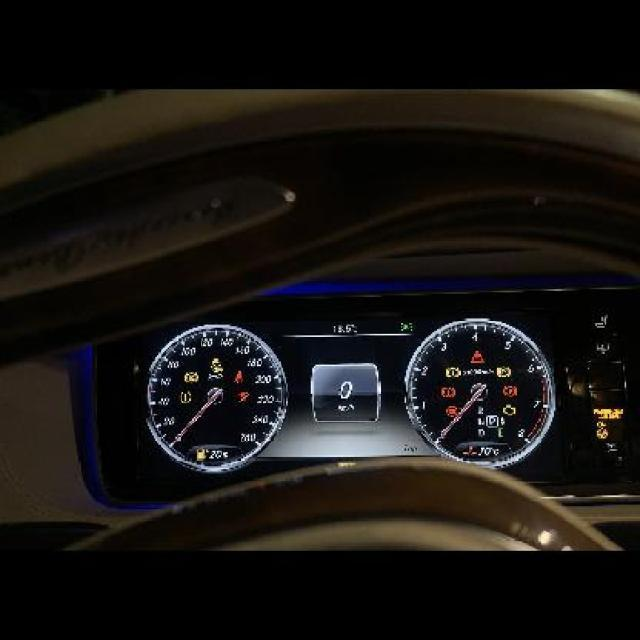Electronic Power Steering: (446, 405, 464, 422)
High Engine Coolant Temperature: (462, 446, 476, 459)
